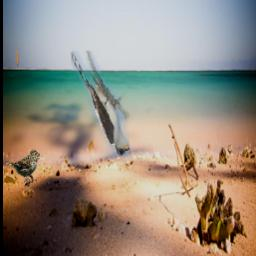Cuckoo: (72, 52, 130, 157)
Sparrow: (4, 149, 40, 186)
